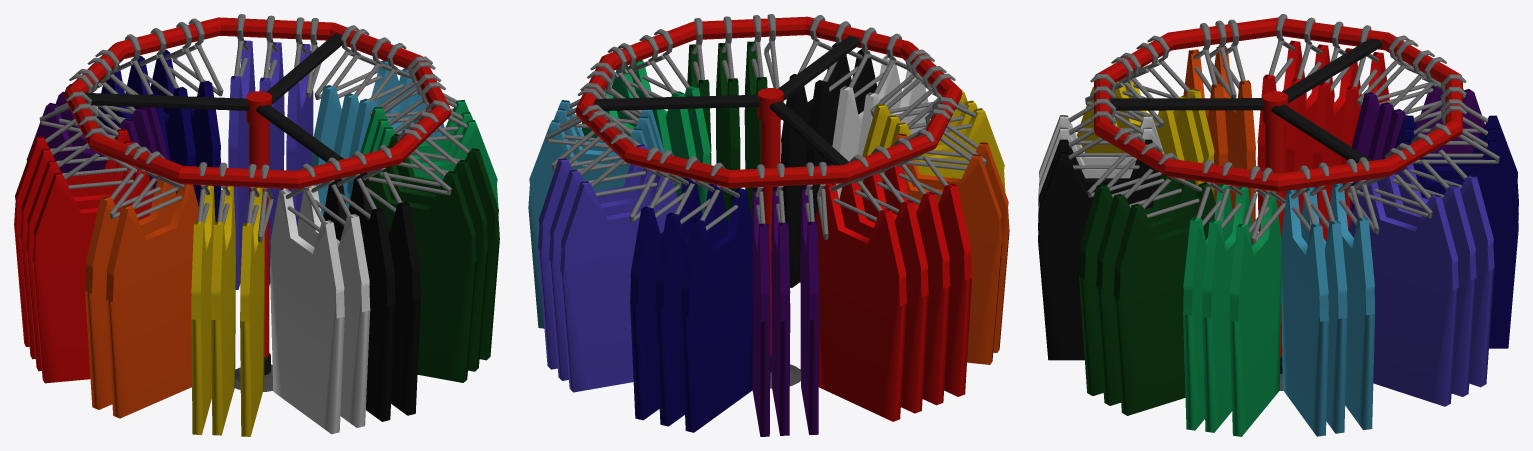
Rendered from Clothes_Singlet Rack.fbx.
3 renders of one model, left to right at view 1: azimuth 30°, elevation 25°; view 2: azimuth 150°, elevation 25°; view 3: azimuth 270°, elevation 25°, orthographic.
Visible parts, largest first — view 1: pasted__polySurface236; view 2: pasted__polySurface236; view 3: pasted__polySurface236.
Boxes of the visible parts, x1,y1,x2,y2 form: pasted__polySurface236: (14,14,499,436); pasted__polySurface236: (528,14,1009,436); pasted__polySurface236: (1038,14,1518,436).
Size of the model in its own units: 3.3 by 2.13 by 3.27.
